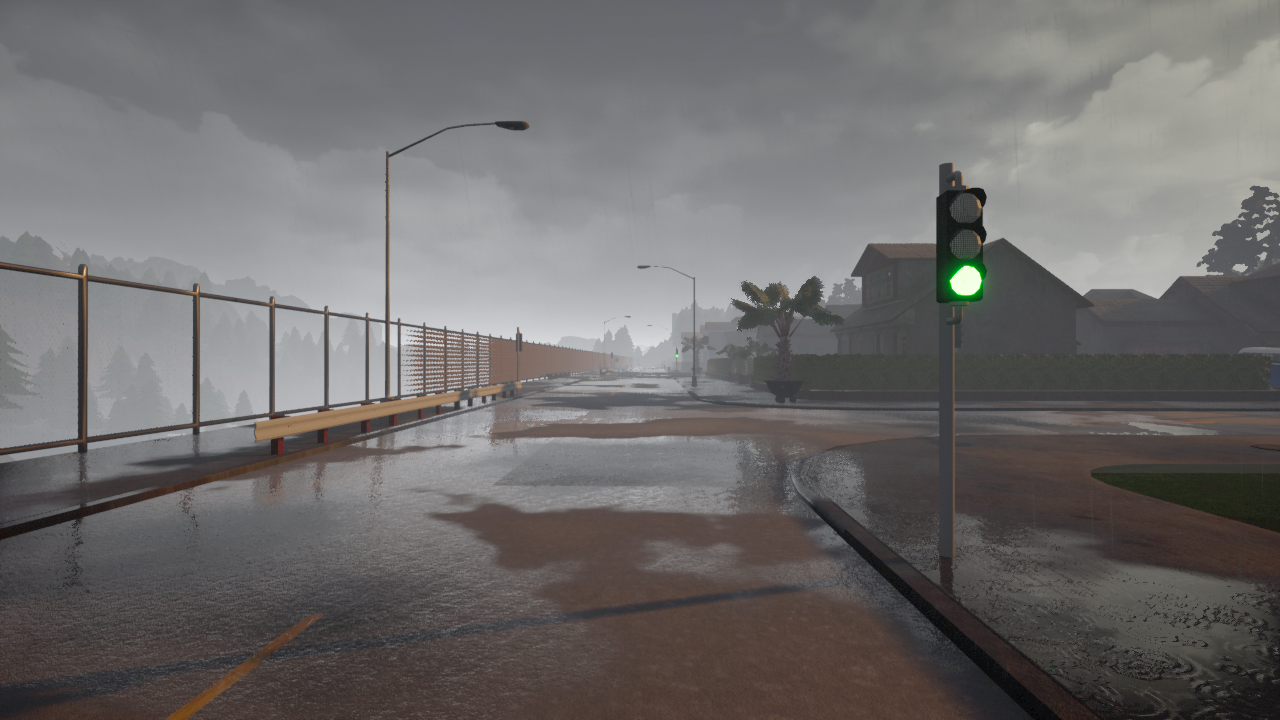green: (935, 186, 991, 307)
